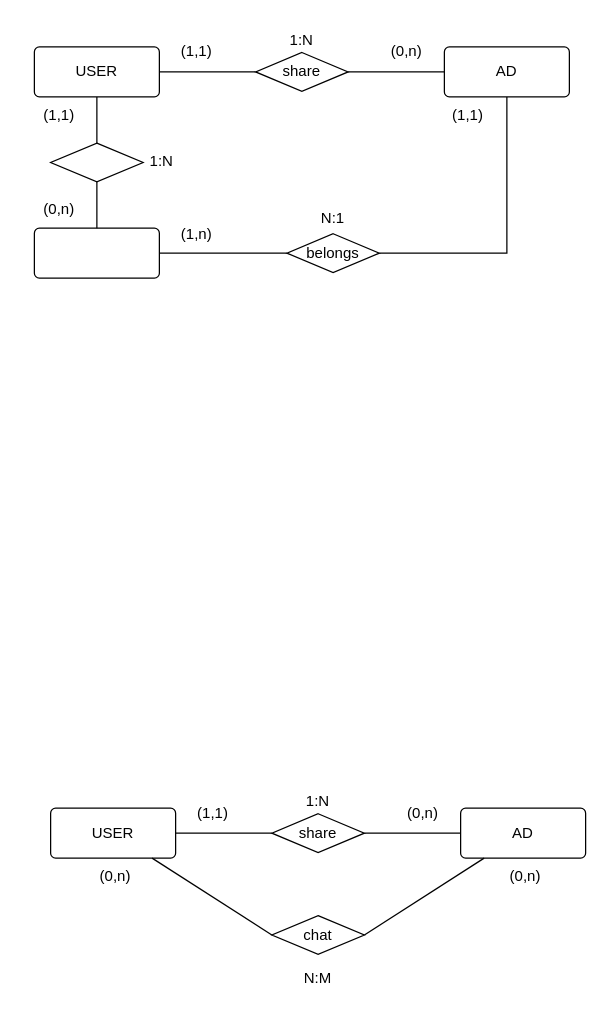
The diagram is 608 pixels wide and 1018 high, and some of its shapes have lost their labels. Each missing label, with the centre of its shape:
"MESSAGE" goes at (x=96, y=252).
"writes" goes at (x=96, y=162).
